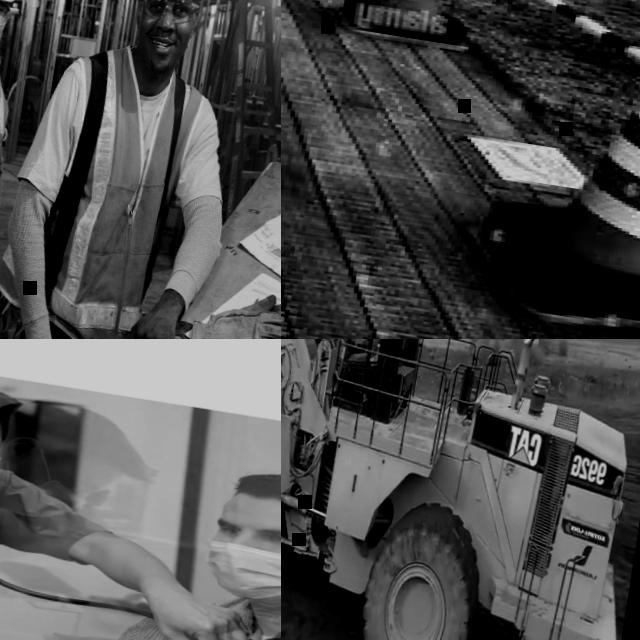Mask: (199, 536, 281, 614), (0, 471, 100, 524)
NO-Hardhat: (0, 396, 164, 477), (223, 460, 281, 544), (0, 560, 96, 595)
NO-Mask: (135, 26, 188, 75)
NO-Safety Vest: (371, 339, 386, 349)
Person: (0, 0, 269, 339), (0, 360, 263, 640), (104, 445, 281, 640), (0, 389, 163, 519), (341, 339, 387, 382)
Safety Cone: (446, 11, 640, 339), (340, 0, 489, 55)
Safety Vest: (0, 31, 216, 339)
machinery: (281, 339, 640, 640)
